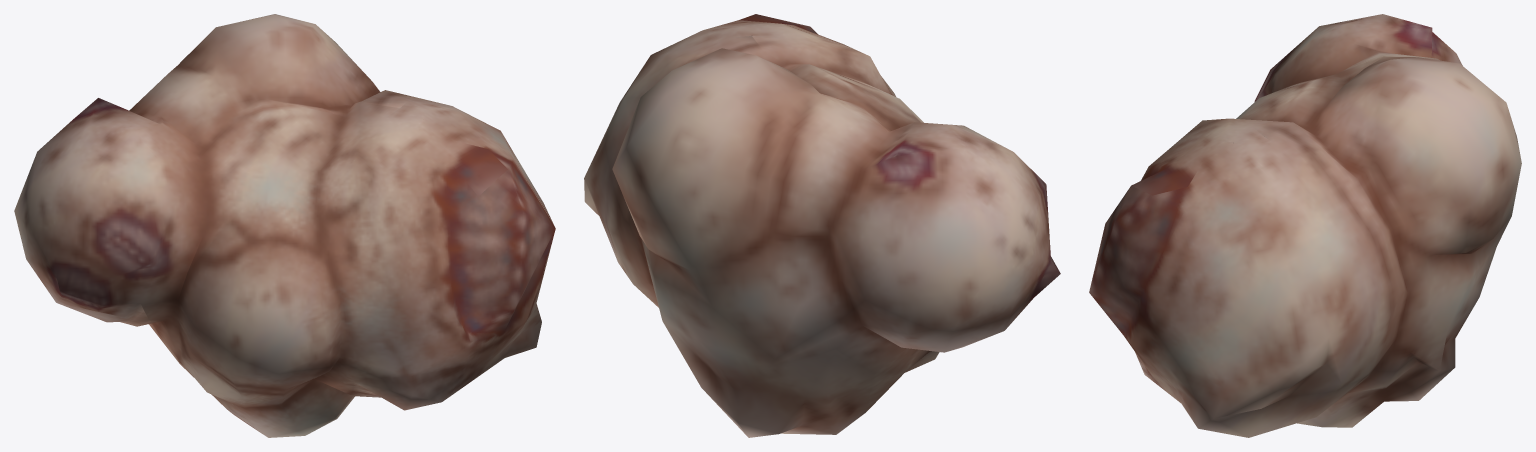
File: Banshira_Growth_04.fbx
3 views of the same model, side by side, from view 1: azimuth 30°, elevation 25°; view 2: azimuth 150°, elevation 25°; view 3: azimuth 270°, elevation 25° (orthographic). The views are drawn at different scales.
Visible parts, largest first — view 1: Banshira_Growth_04; view 2: Banshira_Growth_04; view 3: Banshira_Growth_04.
Boxes of the visible parts, x1=… form: Banshira_Growth_04: x1=14, y1=14, x2=555, y2=437; Banshira_Growth_04: x1=584, y1=14, x2=1060, y2=437; Banshira_Growth_04: x1=1089, y1=14, x2=1521, y2=437.
Bounding box in the file's own units: 337 × 263 × 281.
